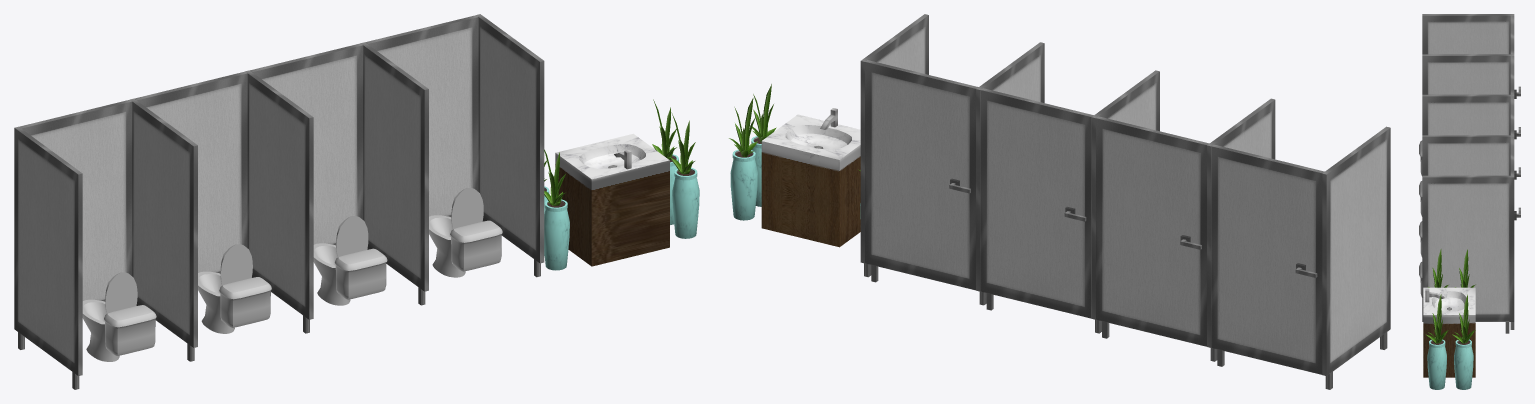
Rendered from Room11Set2.FBX.
3 renders of one model, left to right at view 1: azimuth 30°, elevation 25°; view 2: azimuth 150°, elevation 25°; view 3: azimuth 270°, elevation 25°, orthographic. The views are drawn at different scales.
Visible parts, largest first — view 1: TolietWall008, TolietWall009, TolietWall006, TolietWall010, TolietWall007, Sink012, TolietDoor008, TolietDoor006, TolietDoor007, TolietDoor005, Toliet006, Toliet008 (+4 smaller); view 2: TolietDoor006, TolietDoor008, TolietDoor005, TolietDoor007, TolietWall008, Sink012, TolietWall007, TolietWall010, TolietWall009, TolietWall006, flowerpot025, plant028 (+1 smaller); view 3: TolietWall009, TolietWall006, TolietWall007, TolietWall008, TolietWall010, Sink012, flowerpot024, flowerpot025, plant028, plant027, TolietDoor007, TolietDoor006 (+9 smaller).
Part boxes in pixels (left/top/right/bottom): TolietWall008: left=14, top=126, right=82, bottom=389; TolietWall009: left=476, top=14, right=544, bottom=277; TolietWall006: left=245, top=70, right=313, bottom=333; TolietWall010: left=361, top=42, right=428, bottom=305; TolietWall007: left=130, top=98, right=197, bottom=361; Sink012: left=555, top=133, right=669, bottom=266; TolietDoor008: left=250, top=43, right=363, bottom=245; TolietDoor006: left=19, top=99, right=132, bottom=301; TolietDoor007: left=365, top=15, right=478, bottom=216; TolietDoor005: left=134, top=71, right=247, bottom=273; Toliet006: left=82, top=272, right=156, bottom=361; Toliet008: left=313, top=216, right=387, bottom=305; TolietDoor006: left=1211, top=144, right=1324, bottom=374; TolietDoor008: left=980, top=88, right=1093, bottom=318; TolietDoor005: left=1096, top=116, right=1209, bottom=346; TolietDoor007: left=865, top=60, right=978, bottom=290; TolietWall008: left=1322, top=126, right=1390, bottom=389; Sink012: left=761, top=114, right=860, bottom=247; TolietWall007: left=1207, top=98, right=1275, bottom=361; TolietWall010: left=976, top=42, right=1044, bottom=305; TolietWall009: left=860, top=14, right=928, bottom=277; TolietWall006: left=1091, top=70, right=1159, bottom=333; flowerpot025: left=730, top=149, right=757, bottom=220; plant028: left=729, top=98, right=757, bottom=156; TolietWall009: left=1422, top=175, right=1514, bottom=333; TolietWall006: left=1422, top=94, right=1514, bottom=135; TolietWall007: left=1422, top=54, right=1514, bottom=94; TolietWall008: left=1422, top=14, right=1514, bottom=54; TolietWall010: left=1422, top=135, right=1514, bottom=175; Sink012: left=1423, top=287, right=1475, bottom=377; flowerpot024: left=1427, top=339, right=1446, bottom=389; flowerpot025: left=1454, top=339, right=1473, bottom=389; plant028: left=1452, top=294, right=1475, bottom=343; plant027: left=1425, top=294, right=1448, bottom=343; TolietDoor007: left=1510, top=136, right=1520, bottom=329; TolietDoor006: left=1510, top=15, right=1520, bottom=98.
Bounding box in the file's own units: 74.78 × 24.74 × 14.58.
